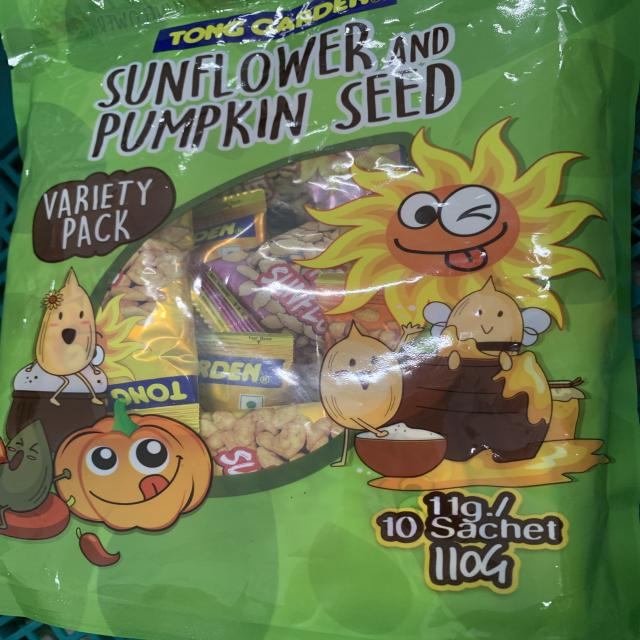object_name: (11, 0, 633, 631)
